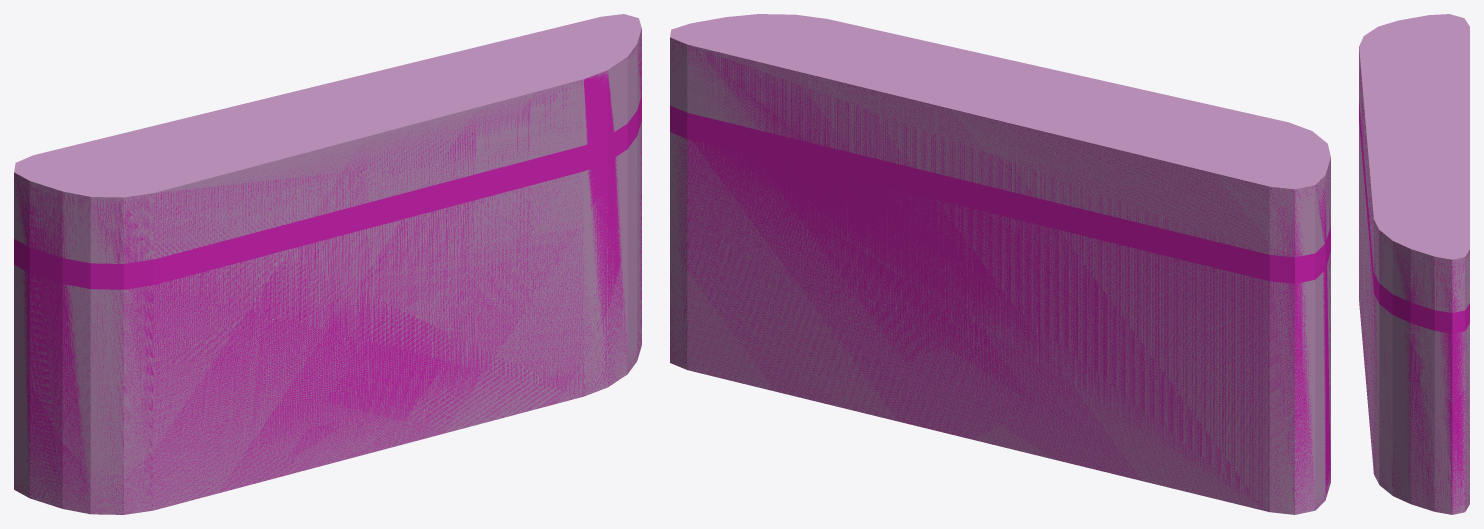
File: building17.fbx
3 views of the same model, side by side, from view 1: azimuth 30°, elevation 25°; view 2: azimuth 150°, elevation 25°; view 3: azimuth 270°, elevation 25° (orthographic). The views are drawn at different scales.
Visible parts, largest first — view 1: building17_MESH, building17_COL; view 2: building17_MESH, building17_COL; view 3: building17_MESH, building17_COL.
Part boxes in pixels (left/top/right/bottom): building17_MESH: left=14, top=14, right=641, bottom=514; building17_COL: left=14, top=29, right=641, bottom=514; building17_MESH: left=670, top=14, right=1330, bottom=514; building17_COL: left=670, top=38, right=1330, bottom=514; building17_MESH: left=1359, top=14, right=1469, bottom=514; building17_COL: left=1359, top=47, right=1469, bottom=514.
Size of the model in its own units: 407 by 2140 by 1036.
